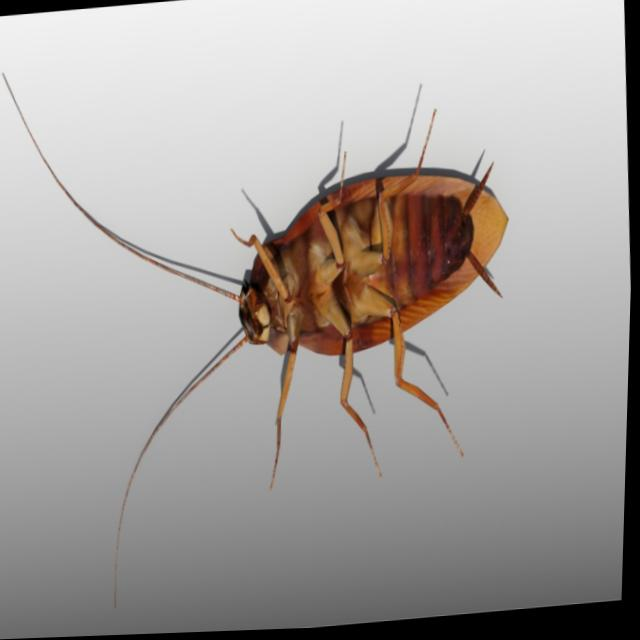Cockroach: (0, 15, 540, 636)
